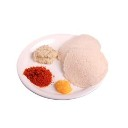idly: (66, 47, 107, 86), (63, 34, 101, 63)
